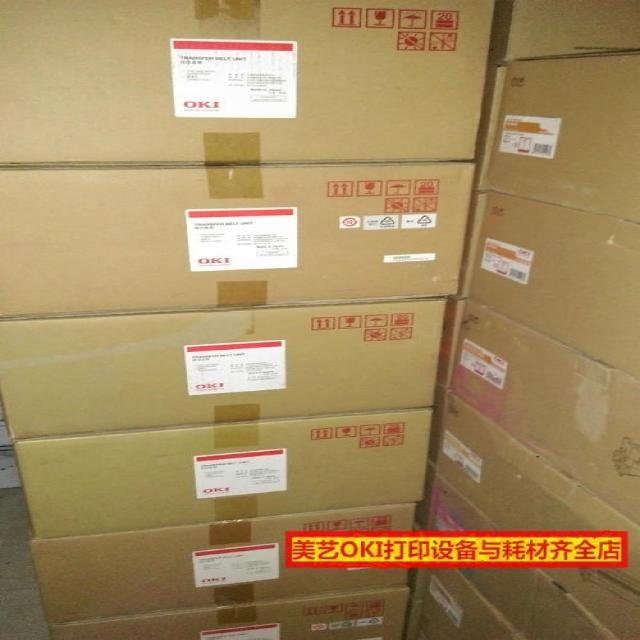box: (0, 159, 476, 323), (0, 298, 445, 442), (13, 412, 431, 542), (434, 397, 640, 640), (24, 505, 416, 622), (445, 301, 640, 520), (457, 194, 640, 376), (422, 485, 617, 640), (475, 51, 640, 221), (49, 588, 413, 640), (401, 553, 520, 640), (495, 0, 640, 62)
